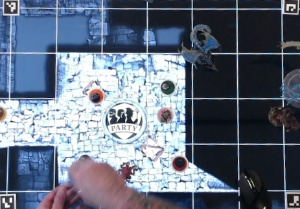green: (157, 77, 177, 96)
orange: (87, 87, 105, 106)
pink: (153, 105, 174, 125)
red: (171, 154, 190, 171)
yellow: (0, 101, 11, 121)
